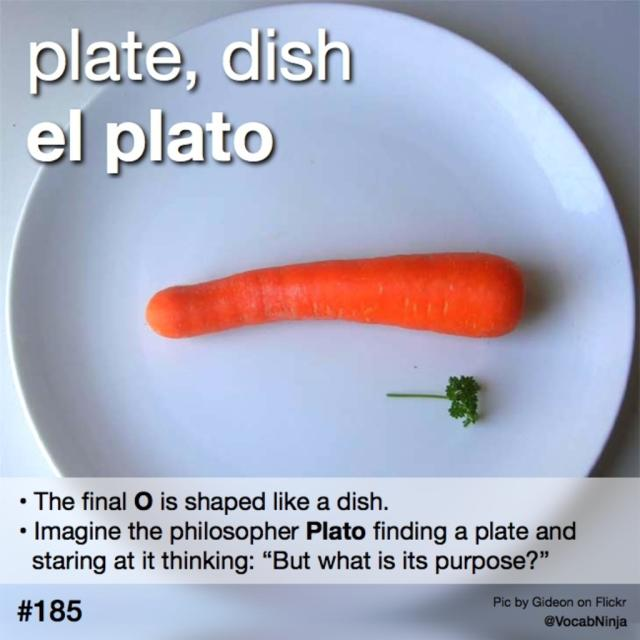Carrot: (144, 248, 528, 340)
